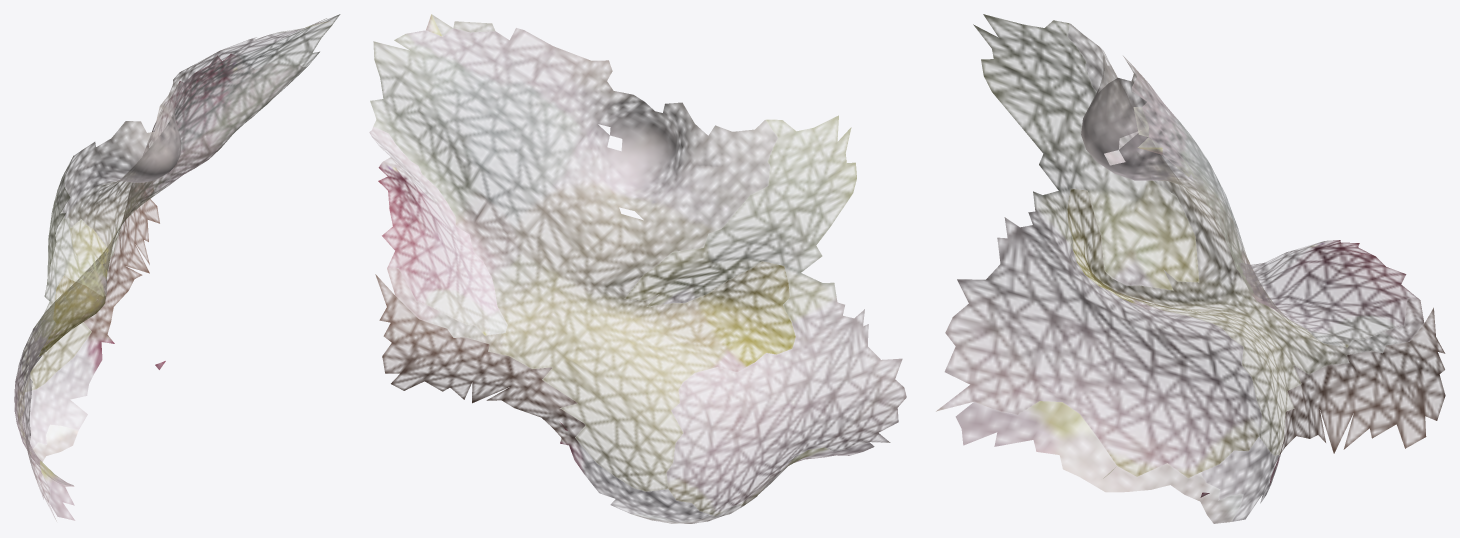
The model's file is Gitter2.glb.
3 renders of one model, left to right at view 1: azimuth 30°, elevation 25°; view 2: azimuth 150°, elevation 25°; view 3: azimuth 270°, elevation 25°, orthographic. The views are drawn at different scales.
Bounding box in the file's own units: 1.18 × 1.11 × 0.9583.
Materials: 1 (1 with a texture image).
